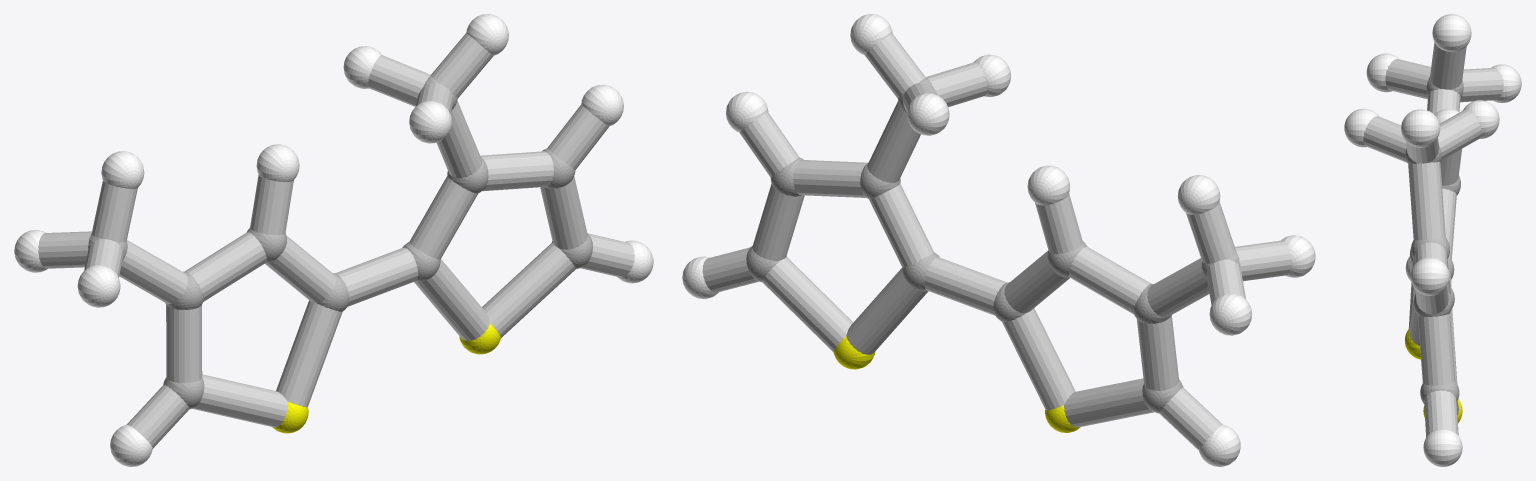
Rendered from color.glb.
3 renders of one model, left to right at view 1: azimuth 30°, elevation 25°; view 2: azimuth 150°, elevation 25°; view 3: azimuth 270°, elevation 25°, orthographic. The views are drawn at different scales.
Parts seen in each view (by area): view 1: grp7965, grp3621, grp1, grp7241; view 2: grp7965, grp3621, grp1, grp7241; view 3: grp7965, grp3621, grp1, grp7241.
Boxes of the visible parts, box(x1,y1,x2,y2) form: grp7965: box(38, 33, 634, 448); grp3621: box(14, 14, 653, 466); grp1: box(88, 76, 592, 409); grp7241: box(272, 324, 500, 433); grp7965: box(702, 33, 1290, 450); grp3621: box(682, 14, 1315, 466); grp1: box(746, 78, 1240, 413); grp7241: box(833, 336, 1080, 432); grp7965: box(1363, 42, 1503, 437); grp3621: box(1344, 14, 1521, 466); grp1: box(1405, 77, 1463, 403); grp7241: box(1404, 328, 1462, 422).
Bounding box in the file's own units: 9.69 × 5.67 × 2.72.
